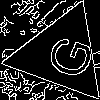G: (36, 29, 97, 83)
